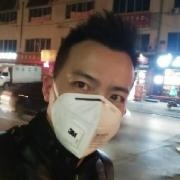Mask: (62, 69, 146, 153)
